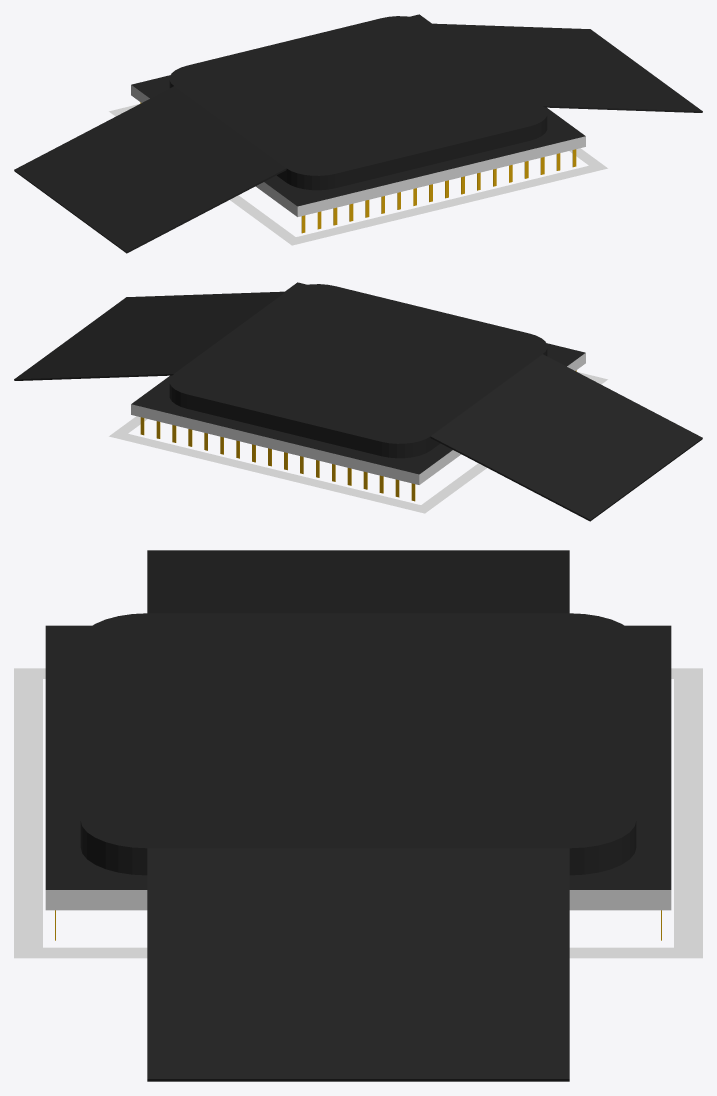
File: cpu_w_ramp.fbx
3 views of the same model, one above another, from view 1: azimuth 30°, elevation 25°; view 2: azimuth 150°, elevation 25°; view 3: azimuth 270°, elevation 25° (orthographic). The views are drawn at different scales.
Parts seen in each view (by area): view 1: cpu w ramp, cpu w ramp ramp; view 2: cpu w ramp, cpu w ramp ramp; view 3: cpu w ramp, cpu w ramp ramp.
Part boxes in pixels (x1,y1,x2,y2): cpu w ramp: (109, 14, 607, 245); cpu w ramp ramp: (14, 23, 702, 253); cpu w ramp: (109, 282, 607, 513); cpu w ramp ramp: (14, 291, 702, 521); cpu w ramp: (14, 613, 702, 958); cpu w ramp ramp: (147, 550, 569, 1081).
Bounding box in the file's own units: 180 × 13.8 × 99.15.
